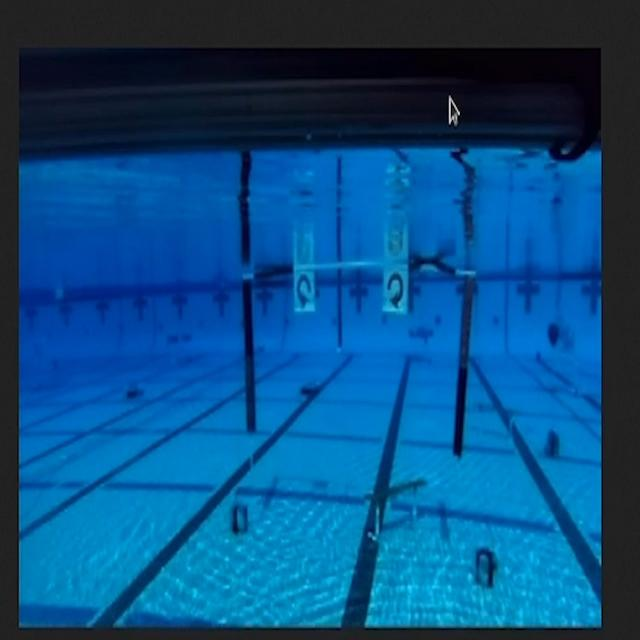Gate: (237, 243, 481, 461)
